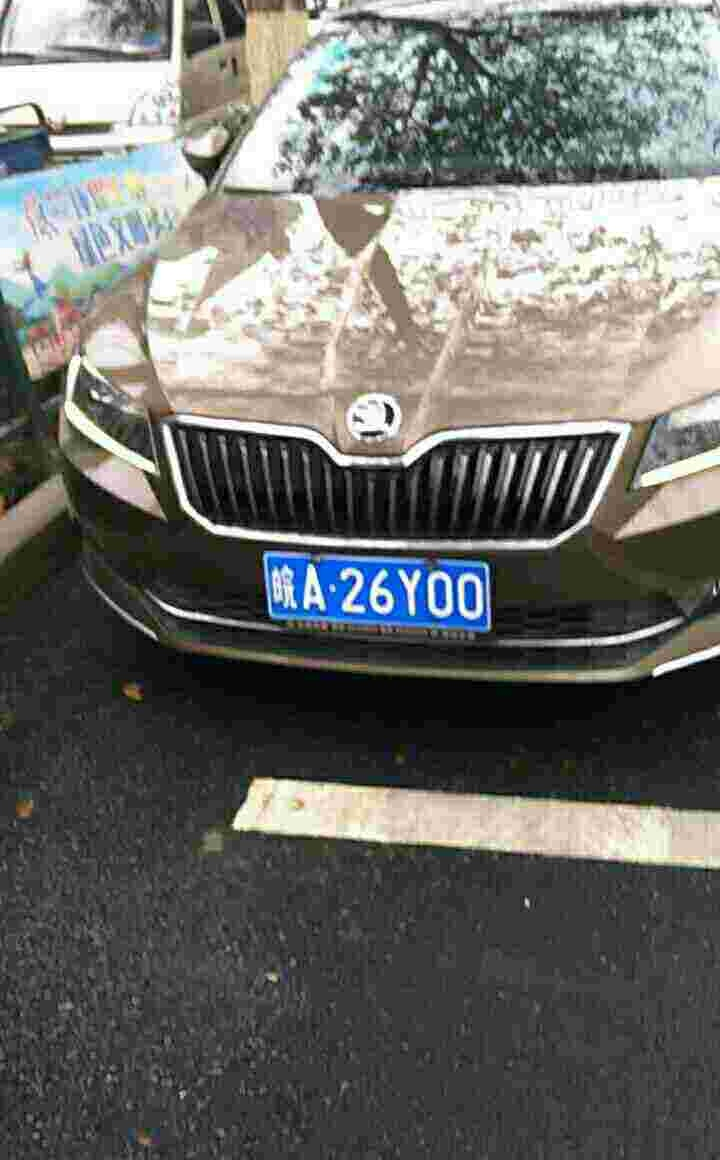plate: (264, 548, 496, 634)
